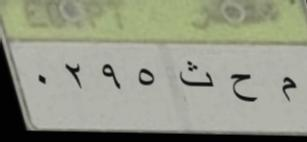0: (32, 70, 55, 88)
2: (62, 60, 88, 94)
5: (134, 65, 158, 95)
7aa: (228, 71, 258, 107)
9: (98, 60, 123, 95)
meem: (277, 72, 300, 108)
thaa: (177, 59, 220, 93)
